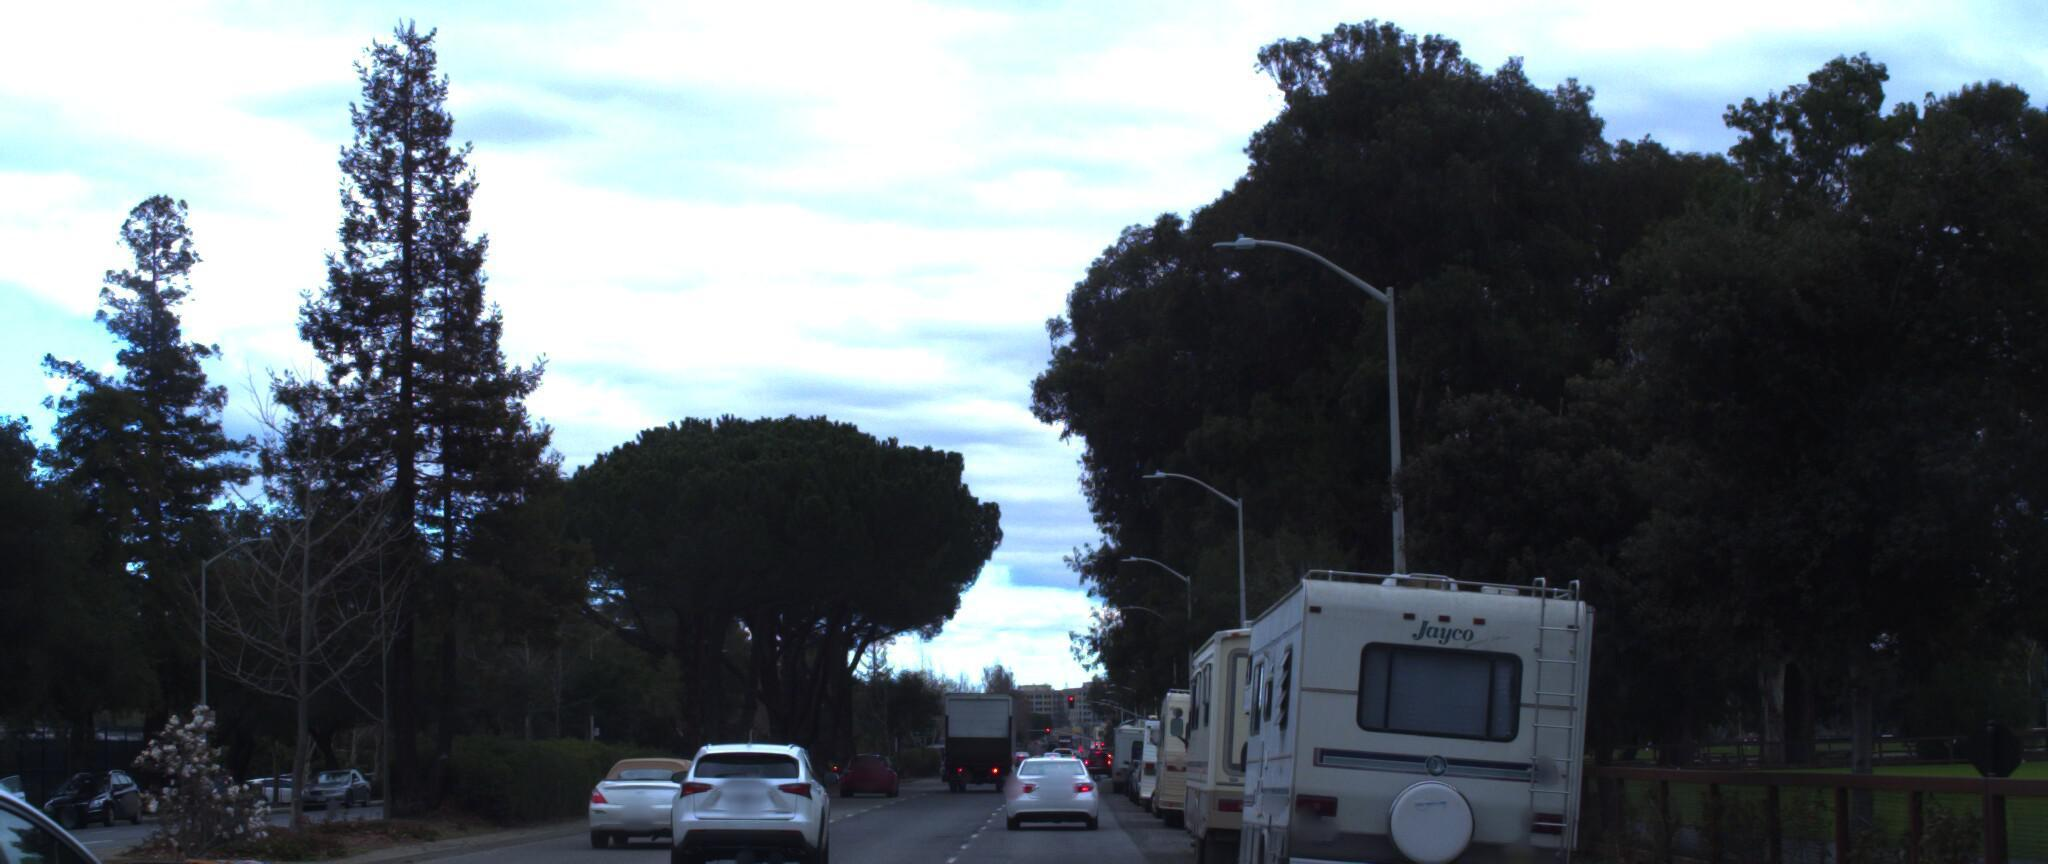car: (0, 741, 273, 864), (664, 728, 833, 864), (580, 737, 728, 841), (997, 735, 1093, 817), (0, 760, 37, 838)
other_vehicle: (1219, 538, 1620, 864), (1176, 585, 1424, 864), (1145, 656, 1287, 820)
